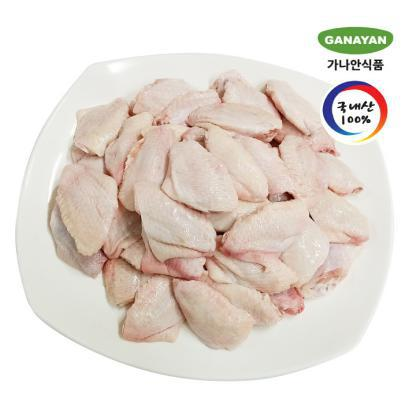chicken: (132, 172, 218, 263), (160, 135, 233, 218), (292, 177, 372, 251), (218, 201, 314, 262), (61, 159, 118, 259), (169, 279, 250, 347), (64, 88, 128, 164), (289, 241, 362, 305), (204, 124, 262, 204), (115, 276, 182, 344), (147, 86, 227, 136), (196, 99, 275, 142), (266, 87, 326, 137), (136, 56, 178, 121), (206, 71, 270, 113), (288, 136, 322, 204)
